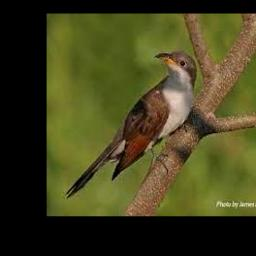Cuckoo: (64, 52, 197, 198)
